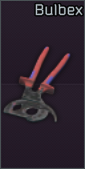Bulbex cable cutter: (0, 0, 85, 169)
